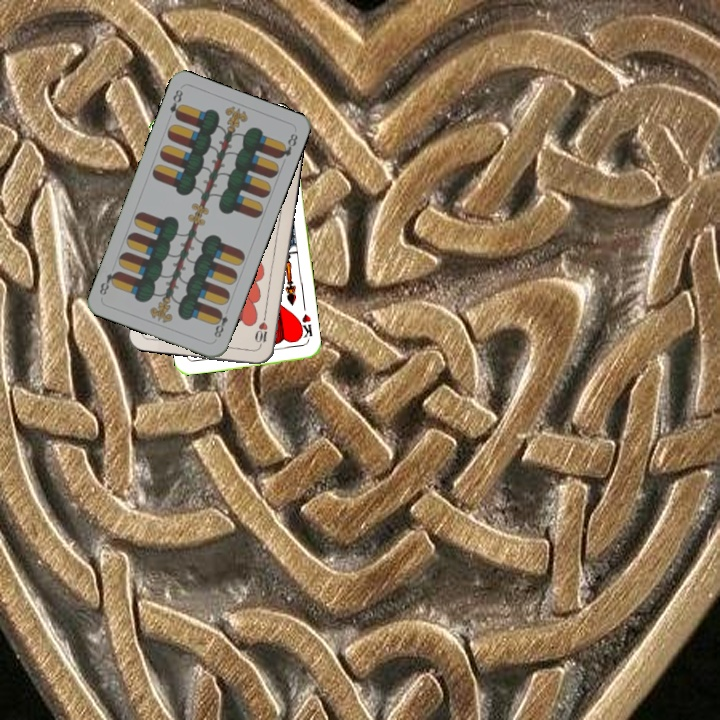E8: (165, 85, 186, 122), (210, 306, 231, 340)
H10: (252, 310, 270, 350)
HK: (294, 310, 315, 345)
